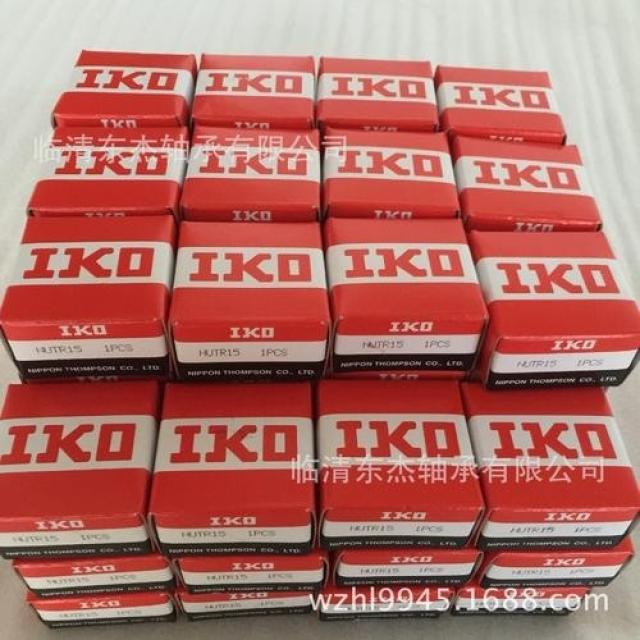box: (461, 379, 639, 550), (147, 380, 319, 556), (0, 216, 179, 383), (0, 380, 164, 561), (315, 380, 485, 552), (467, 228, 640, 390), (321, 216, 489, 381), (166, 220, 333, 381), (27, 125, 193, 219), (447, 136, 600, 236), (178, 123, 323, 223), (321, 125, 463, 220), (52, 51, 197, 127), (433, 67, 567, 146), (191, 54, 316, 129), (467, 534, 635, 588), (316, 58, 440, 131), (164, 544, 332, 596), (13, 550, 178, 599), (326, 548, 483, 591), (26, 590, 180, 630), (179, 586, 319, 621), (320, 588, 458, 621), (452, 588, 591, 616)
